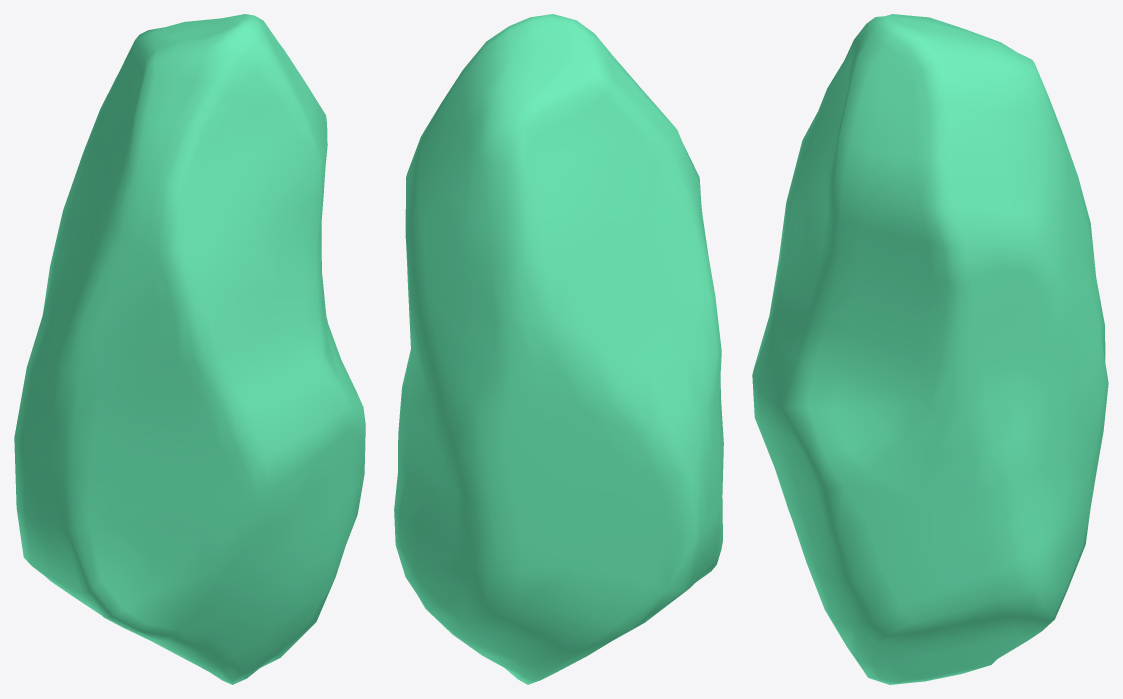
File: Crystal_6.fbx
The picture shows the model from 3 angles, left to right: view 1: azimuth 30°, elevation 25°; view 2: azimuth 150°, elevation 25°; view 3: azimuth 270°, elevation 25°; orthographic projection. The views are drawn at different scales.
Parts seen in each view (by area): view 1: Crystal_6; view 2: Crystal_6; view 3: Crystal_6.
Part boxes in pixels (bbox=[...]): Crystal_6: bbox=[14, 14, 365, 684]; Crystal_6: bbox=[394, 14, 723, 684]; Crystal_6: bbox=[752, 14, 1108, 684].
Bounding box in the file's own units: 115 × 239 × 116.
